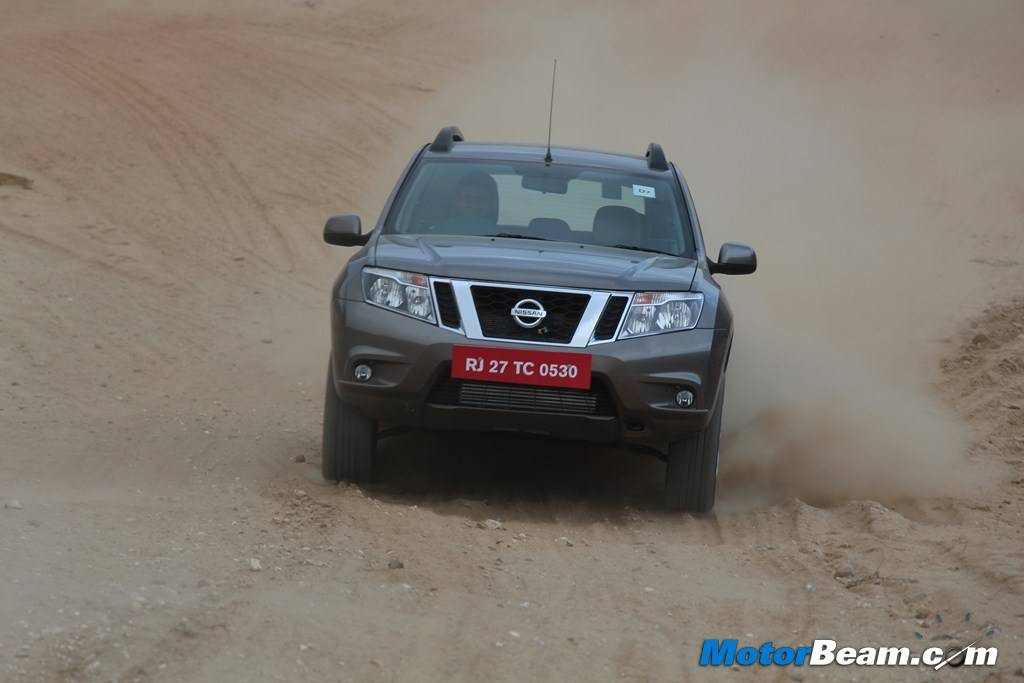number_plate: (447, 342, 604, 396)
